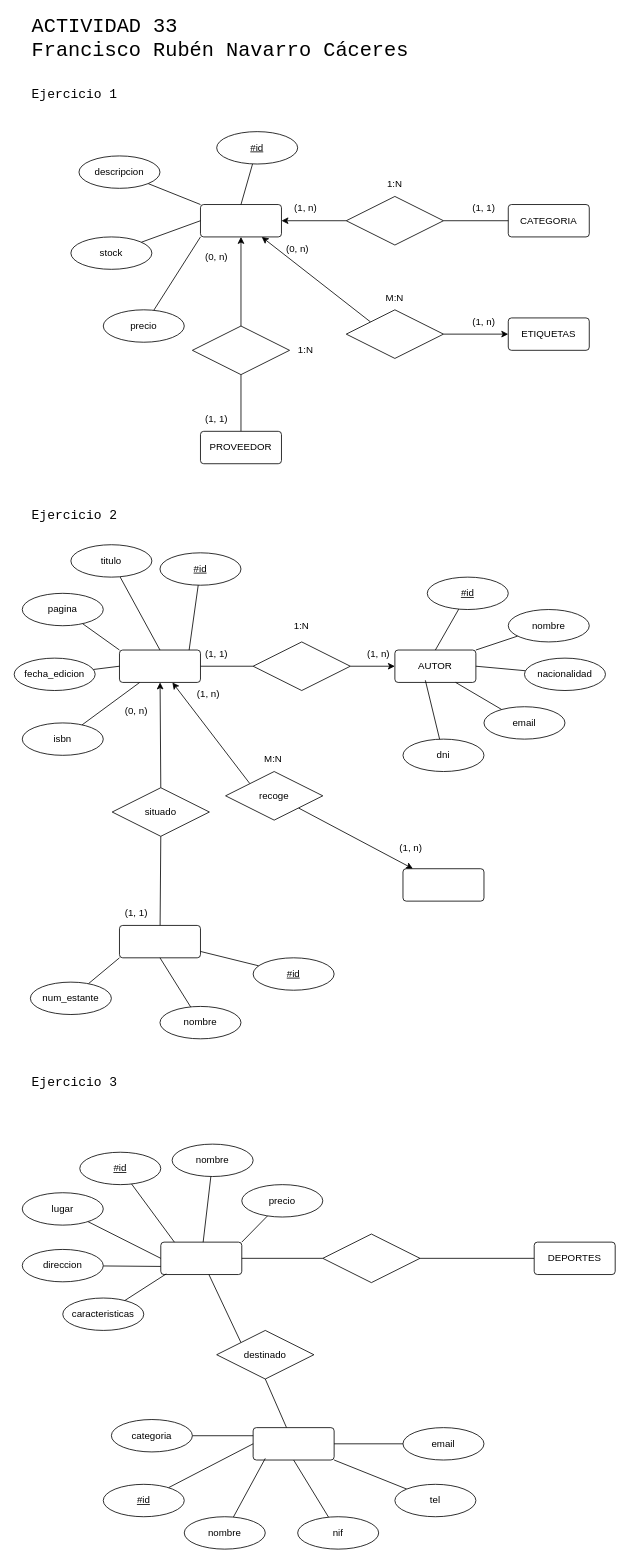
This 629x1563 diagram has some shape labels left out. Each missing label, with the centre of its shape:
"ARTICULO" belongs at pixel 240 220.
"asigna" belongs at pixel 394 333.
"asociada" belongs at pixel 371 1258.
"clasifica" belongs at pixel 394 220.
"distribuye" belongs at pixel 241 350.
"EMPLEADOS" belongs at pixel 293 1443.
"escrito" belongs at pixel 301 666.
"ESTANTE" belongs at pixel 159 941.
"INSTALACIONES" belongs at pixel 201 1258.
"LIBRO" belongs at pixel 159 665.
"TEMATICA" belongs at pixel 443 884.
